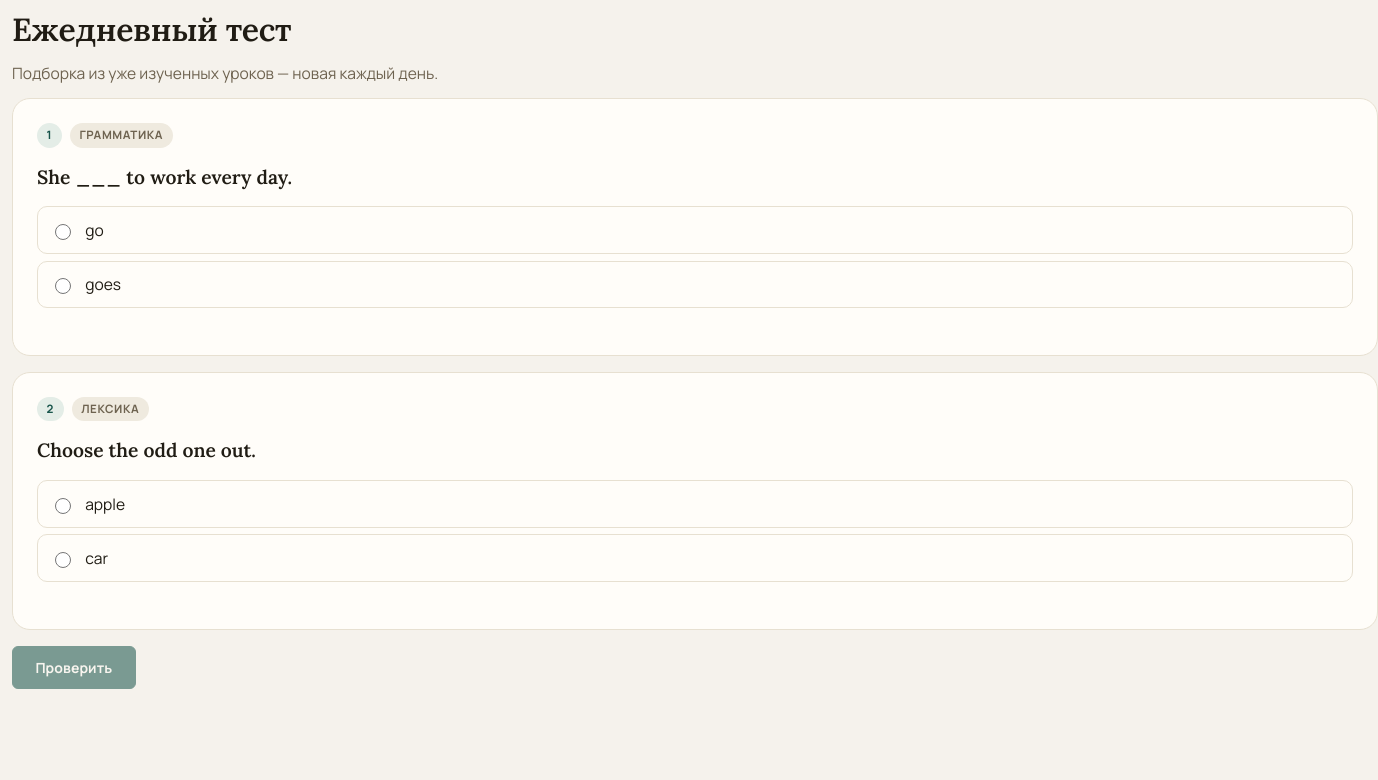
Test: DailyQuizPage › keeps the single check button disabled until every exercise is answered
Expected: the button "Проверить" is disabled, left=12, top=646, right=136, bottom=689
Click the radio button labelled "goes": (63, 286) left=55, top=278, right=71, bottom=294
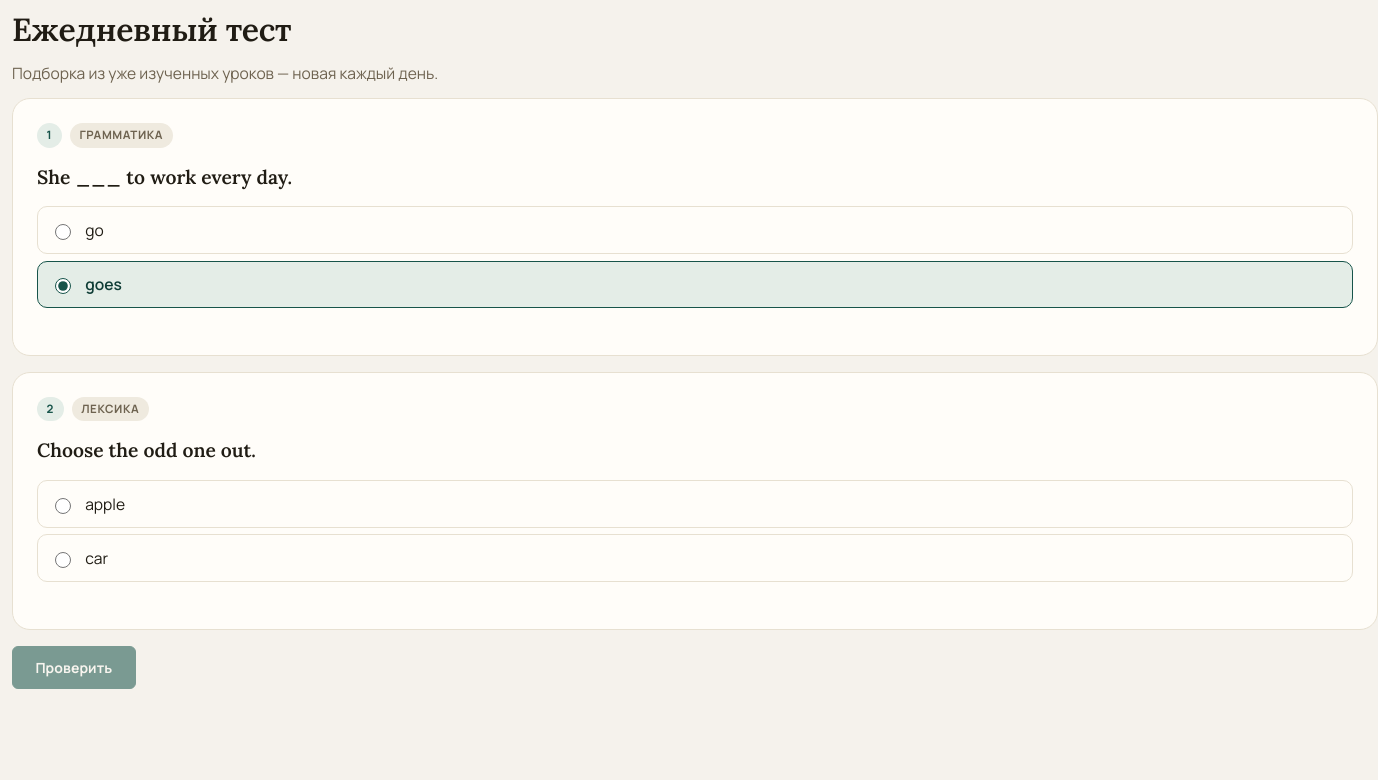
Expected: the button "Проверить" is disabled, left=12, top=646, right=136, bottom=689
Click the radio button labelled "car": (63, 560) left=55, top=552, right=71, bottom=568
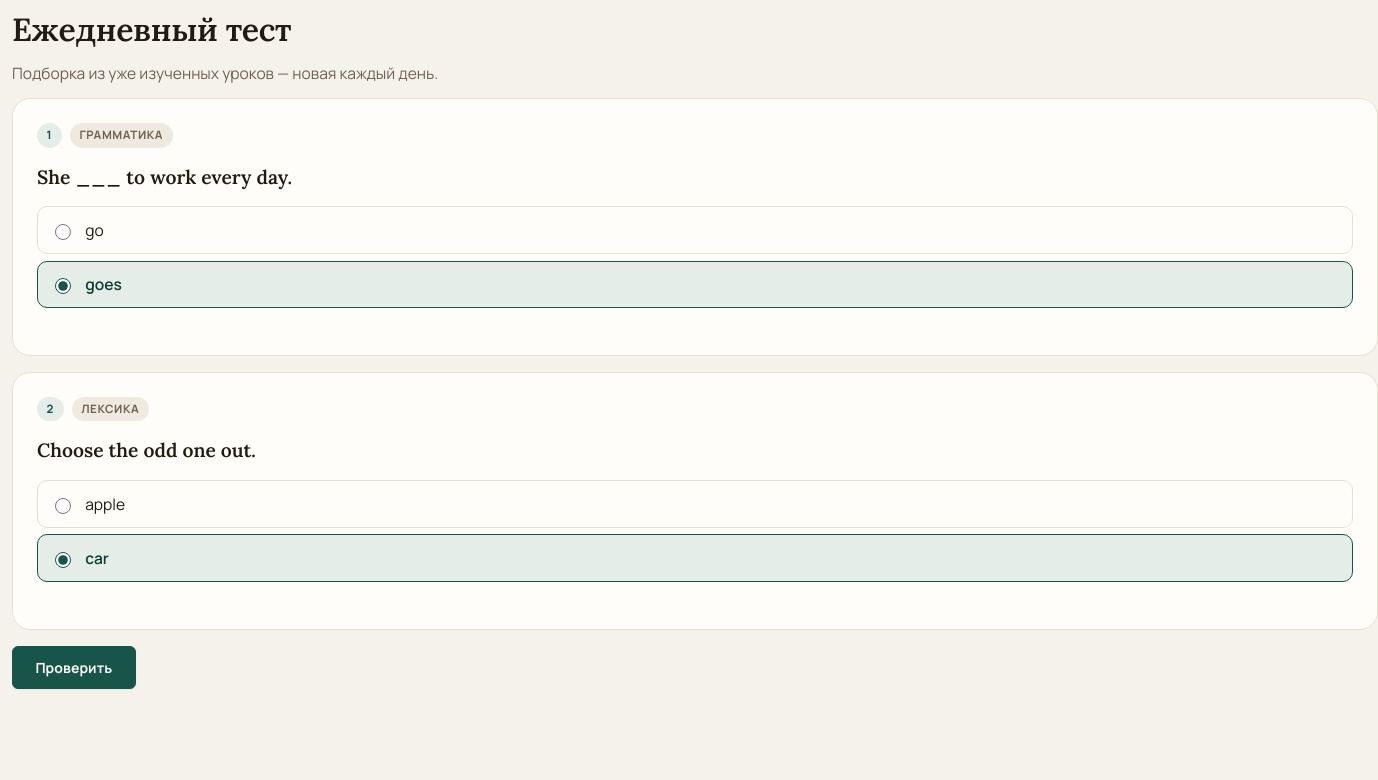
Expected: the button "Проверить" is enabled, left=12, top=646, right=136, bottom=689
